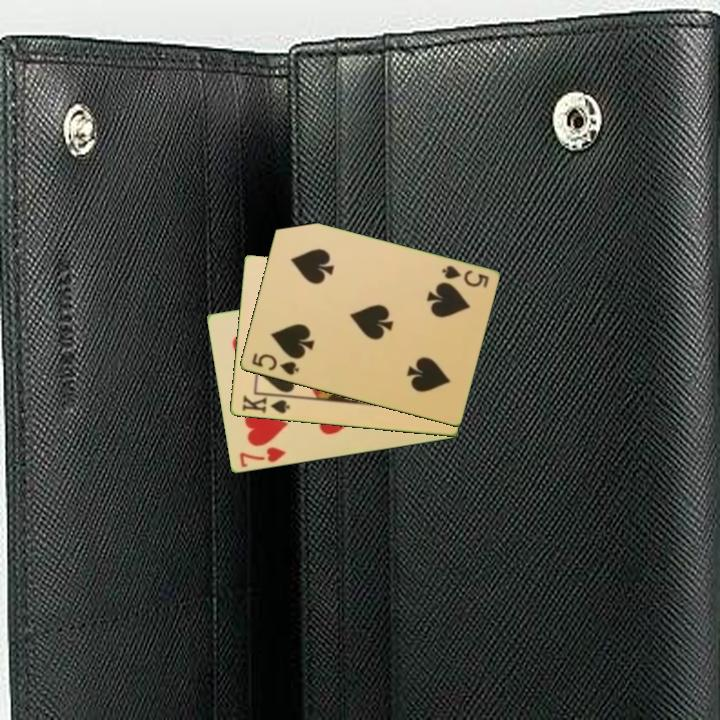5s: (248, 349, 302, 378), (438, 262, 491, 291)
7h: (235, 444, 289, 471)
Ks: (238, 391, 293, 417)
